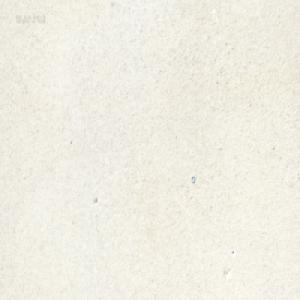Washer: (190, 174, 195, 184)
